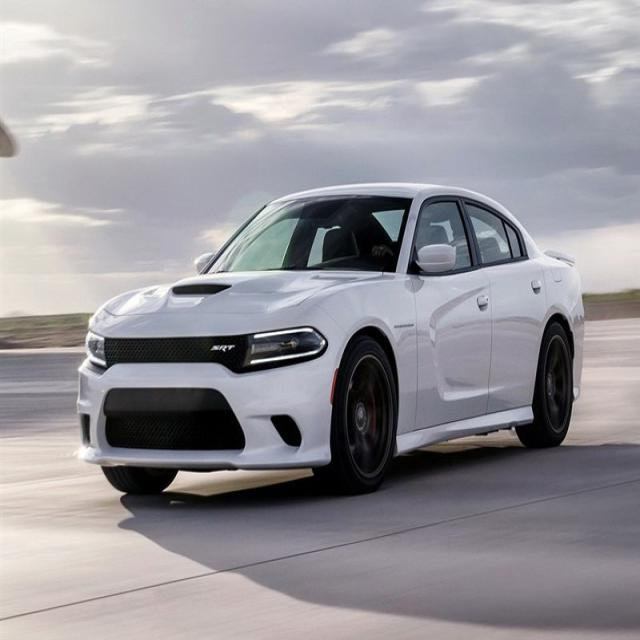door: (461, 201, 542, 426)
front_bumper: (76, 353, 340, 472)
front_glass: (204, 192, 414, 276)
front_left_side_door: (404, 193, 494, 437)
front_left_side_light: (243, 323, 327, 371)
front_left_side_mirror: (412, 242, 458, 281)
front_right_side_light: (81, 324, 110, 372)
front_right_side_mirror: (194, 249, 218, 280)
wheel: (310, 338, 398, 492), (516, 323, 572, 447)
